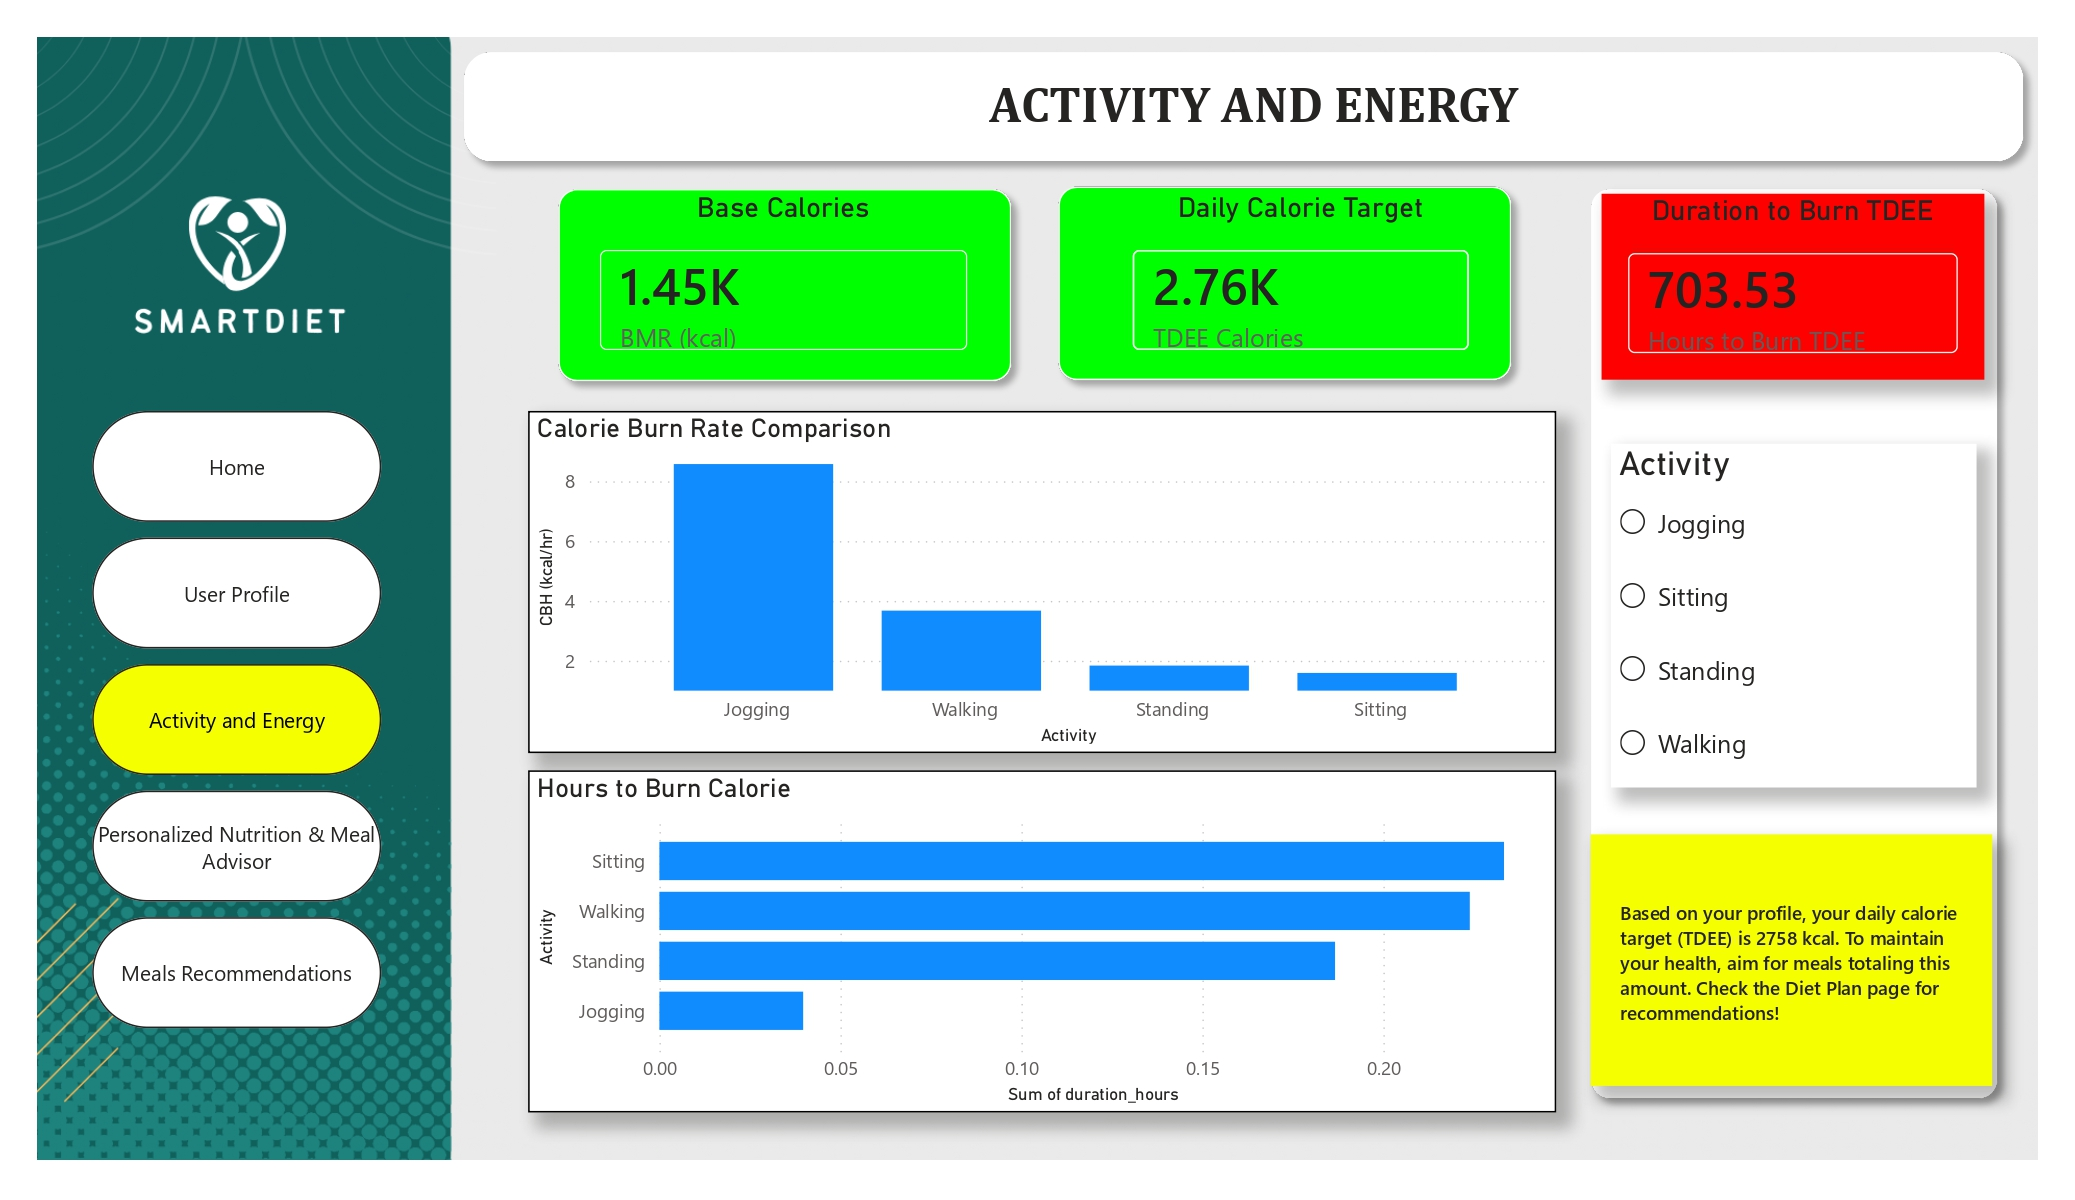

What the dashboard file says about the page in this screenshot:
{"tool":"powerbi","page":{"name":"Activity and Energy","canvas":[1280,720],"ordinal":2},"visuals":[{"type":"textbox","box":[493.9,292.3,381.6,49],"z":5000},{"type":"cardVisual","fields":{"Data":["Measure_Table.User Summary Text"]},"box":[247.7,600.5,1021,92.2],"z":6000},{"type":"cardVisual","title":"Daily Calorie Target","fields":{"Data":["Measure_Table.TDEE Calories"]},"box":[483.8,99.4,237.6,119.5],"z":7000},{"type":"cardVisual","title":"Base Calories","fields":{"Data":["Measure_Table.BMR (kcal)"]},"box":[239,97.9,239,121],"z":8000},{"type":"clusteredBarChart","title":"Activity Burn Intensity (MET)","fields":{"Category":["activity_cleaned.Activity"],"Y":["Measure_Table.Activity - Avg MET"]},"box":[243.4,237.6,597.6,347],"z":9000},{"type":"cardVisual","title":"Best Activity to Maximize Burn","fields":{"Data":["Min(activity_cleaned.Activity)"]},"box":[846.7,239,260.6,161.3],"z":10000},{"type":"gauge","fields":{"Y":["Measure_Table.Calories (30 Mins)"]},"box":[846.7,413.3,260.6,171.4],"z":11000},{"type":"listSlicer","fields":{"Values":["activity_cleaned.Intensity"]},"box":[1117.1,238.5,151.2,347.7],"z":12000},{"type":"shape","box":[238.9,0,1041.1,87.8],"z":13000},{"type":"textbox","box":[417.6,18.7,650.9,57.6],"z":14000},{"type":"cardVisual","title":"Target Daily Intake","fields":{"Data":["Measure_Table.Target Daily Intake"]},"box":[972,97.9,302.4,121],"z":15000},{"type":"cardVisual","title":"Your BMI","fields":{"Data":["Measure_Table.User BMI"]},"box":[725.8,97.9,239,121],"z":16000},{"type":"pageNavigator","box":[18.7,190.1,197.3,445],"z":17000}]}

Visuals, with their boxes on the page's 1280x720 design canvas (x1, y1, x2, y2). These are canvas units, not pixel positions in the 2075x1200 screenshot, which may show the page scaled, cropped or inside an application window:
textbox: <box>494,292,876,341</box>
cardVisual - Measure_Table.User Summary Text: <box>248,600,1269,693</box>
"Daily Calorie Target" cardVisual: <box>484,99,721,219</box>
"Base Calories" cardVisual: <box>239,98,478,219</box>
"Activity Burn Intensity (MET)" clusteredBarChart: <box>243,238,841,585</box>
"Best Activity to Maximize Burn" cardVisual: <box>847,239,1107,400</box>
gauge - Measure_Table.Calories (30 Mins): <box>847,413,1107,585</box>
listSlicer - activity_cleaned.Intensity: <box>1117,238,1268,586</box>
shape: <box>239,0,1280,88</box>
textbox: <box>418,19,1068,76</box>
"Target Daily Intake" cardVisual: <box>972,98,1274,219</box>
"Your BMI" cardVisual: <box>726,98,965,219</box>
pageNavigator: <box>19,190,216,635</box>
